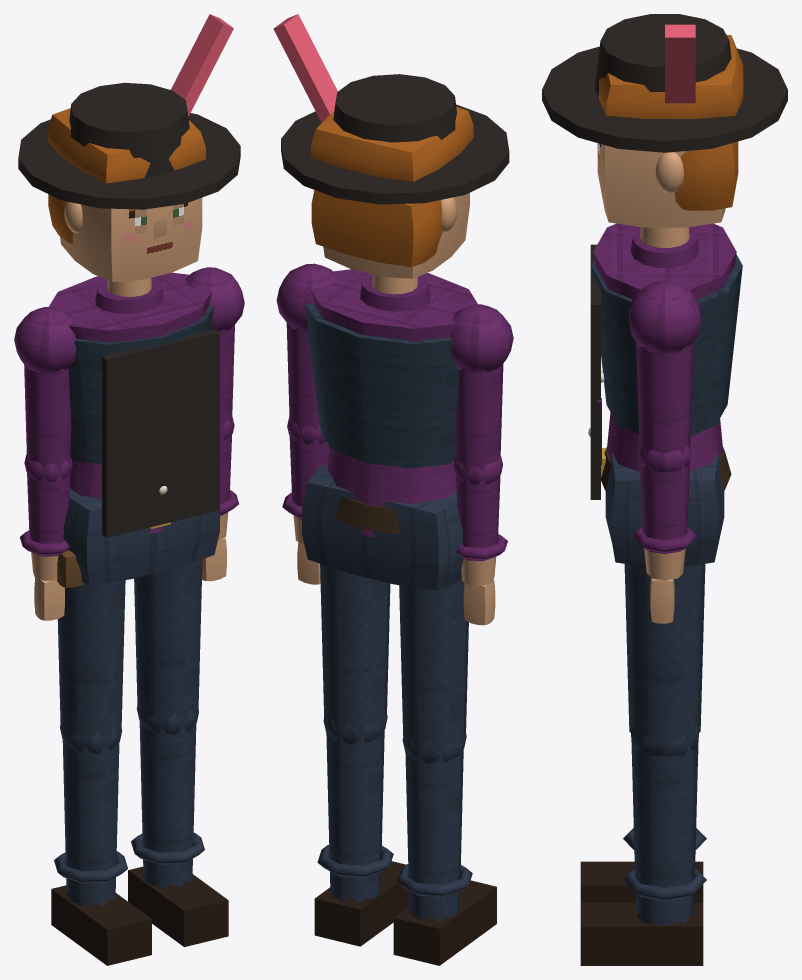
File: comerciante-2.glb
The picture shows the model from 3 angles, left to right: view 1: azimuth 30°, elevation 25°; view 2: azimuth 150°, elevation 25°; view 3: azimuth 270°, elevation 25°; orthographic projection. The views are drawn at different scales.
Parts seen in each view (by area): view 1: comerciante-2, object 1, object 7, object 34, object 29, object 35, object 9, object 3, object 6, object 12, object 32, object 15 (+17 smaller); view 2: comerciante-2, object 1, object 7, object 34, object 9, object 3, object 33, object 35, object 32, object 6, object 15, object 12 (+17 smaller); view 3: comerciante-2, object 7, object 34, object 9, object 12, object 35, object 29, object 22, object 32, object 21, object 33, object 24 (+10 smaller).
Part boxes in pixels (x1,y1,x2,y2): comerciante-2: (49, 272, 219, 587); object 1: (57, 580, 125, 741); object 7: (134, 559, 202, 723); object 34: (18, 113, 240, 209); object 29: (60, 197, 202, 281); object 35: (69, 82, 189, 177); object 9: (139, 718, 196, 887); object 3: (62, 737, 119, 906); object 6: (51, 885, 151, 965); object 12: (128, 866, 228, 947); object 32: (47, 108, 205, 183); object 15: (24, 364, 71, 471); comerciante-2: (302, 269, 477, 590); object 1: (399, 576, 468, 751); object 7: (320, 563, 390, 732); object 34: (281, 104, 509, 204); object 9: (326, 727, 384, 901); object 3: (405, 746, 463, 920); object 33: (311, 190, 442, 267); object 35: (333, 74, 456, 142); object 32: (311, 107, 473, 181); object 6: (393, 880, 496, 965); object 15: (455, 364, 503, 473); object 12: (314, 861, 409, 946); comerciante-2: (588, 223, 742, 566); object 7: (624, 564, 705, 745); object 34: (542, 46, 787, 152); object 9: (631, 738, 698, 925); object 12: (580, 902, 703, 965); object 35: (594, 14, 731, 96); object 29: (597, 143, 725, 227); object 22: (636, 342, 693, 455); object 32: (599, 34, 743, 118); object 21: (629, 280, 700, 353); object 33: (674, 141, 738, 210); object 24: (639, 453, 690, 553).
Bounding box in the file's own units: 0.5523 × 2.08 × 0.4838.
Materials: 17 (4 with a texture image).
